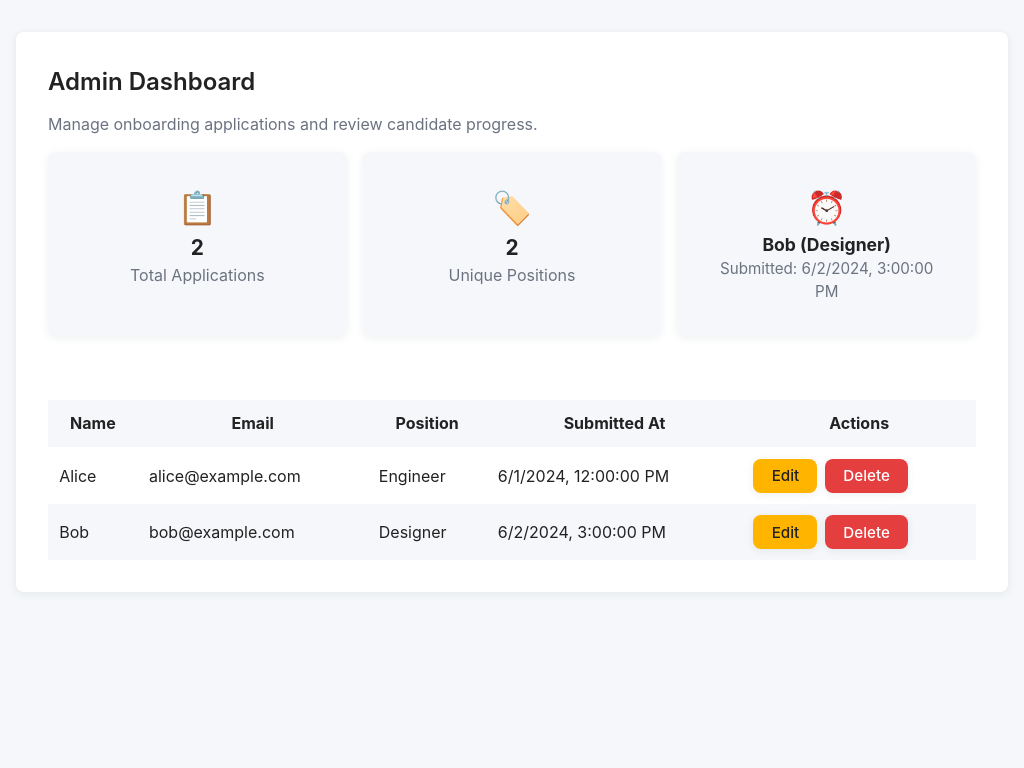
AdminDashboard component › deletes submission and updates table and storage
Click the button "Delete" in the row of "alice@example.com".
click(867, 476)  # box [825, 458, 908, 493]
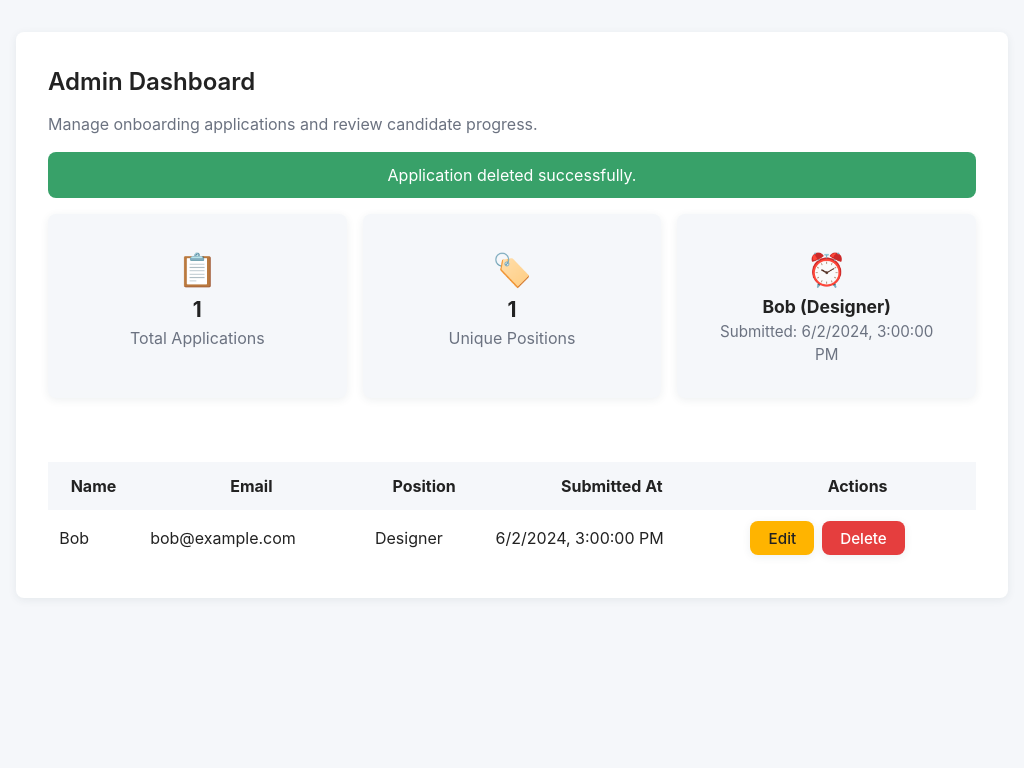
Expected: the cell "Bob" is shown, [48, 509, 139, 566]
Result: the text "Application deleted successfully." is shown at [48, 152, 976, 198]
Result: the text "Alice" is gone
